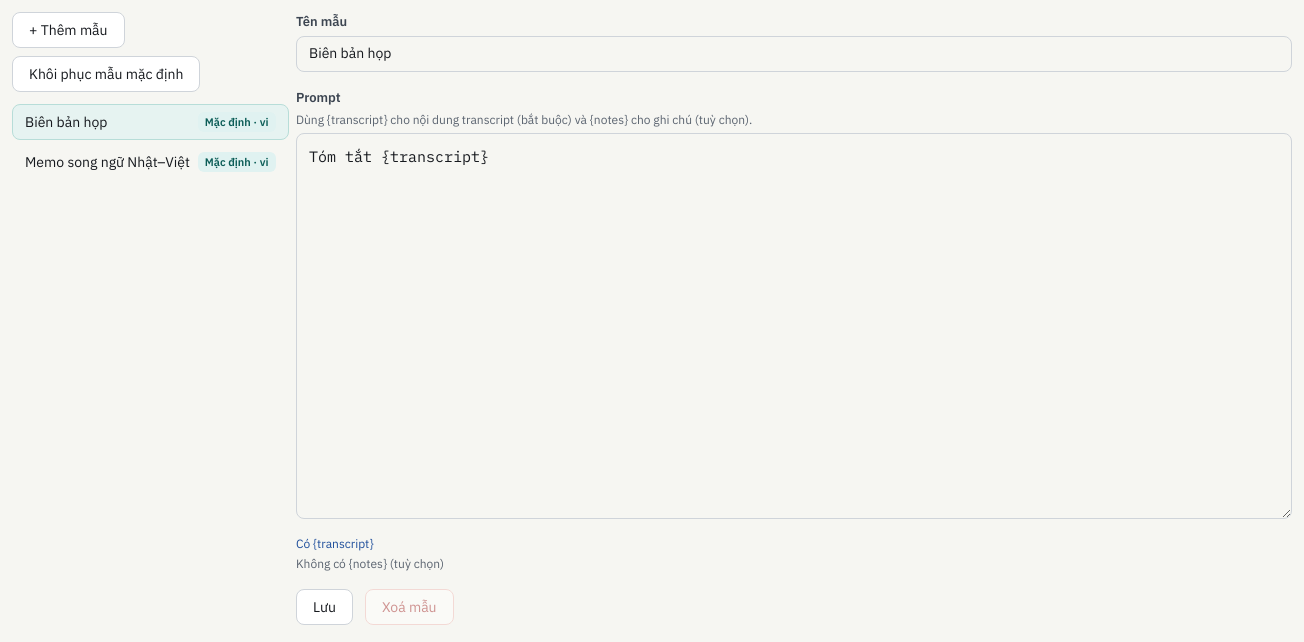
Test: SettingsMemo › switching the selected template while the editor has unsaved changes asks "Bỏ thay đổi?" first
Expected: the text "Biên bản họp" is shown, [25,112,107,132]
Replace the text in the field labelled "Tên mẫu" with "Đang gõ dở" at (794, 54), box [296,36,1292,72]
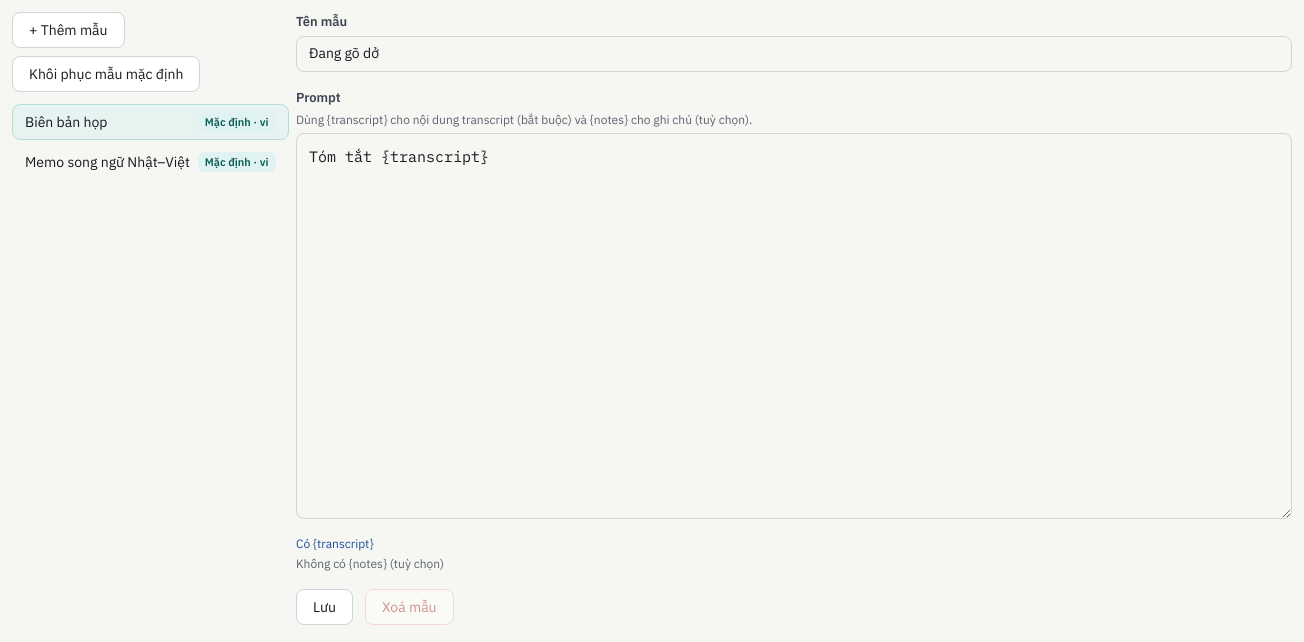
Click the button "Memo song ngữ Nhật–Việt Mặc định · vi" at (150, 162), box [12,144,289,180]
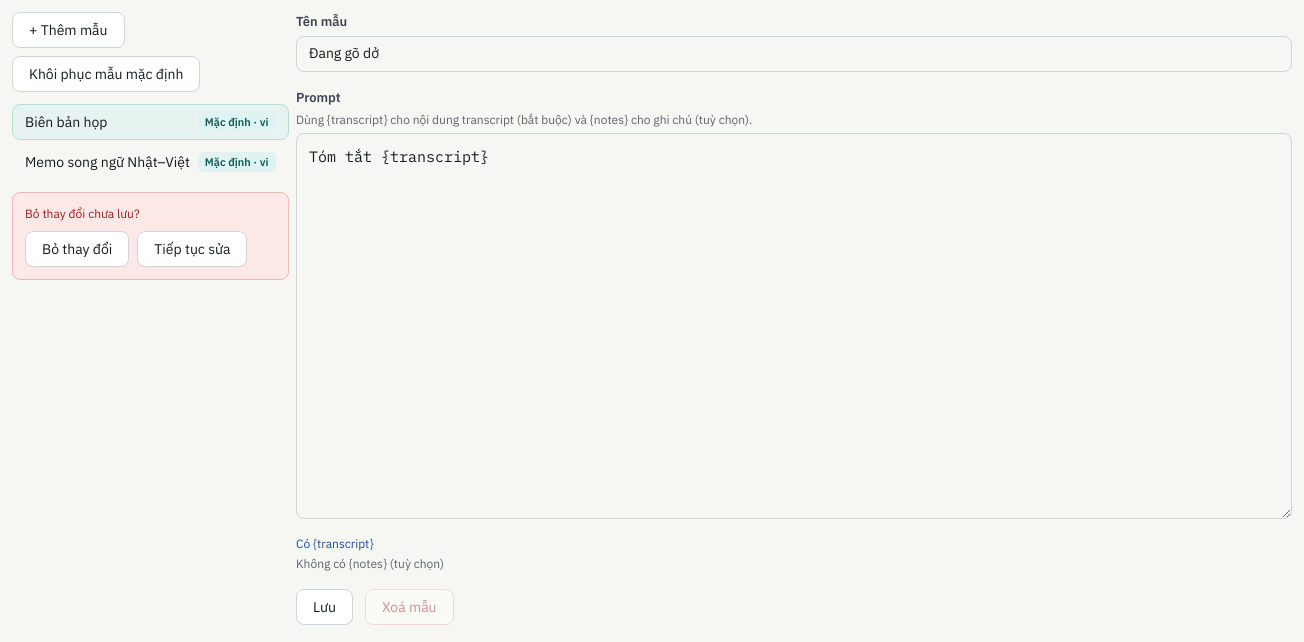
Expected: the text "Bỏ thay đổi chưa lưu?" is shown, [25,206,140,221]
Click the button "Bỏ thay đổi" at (77, 249), box [25,231,129,267]
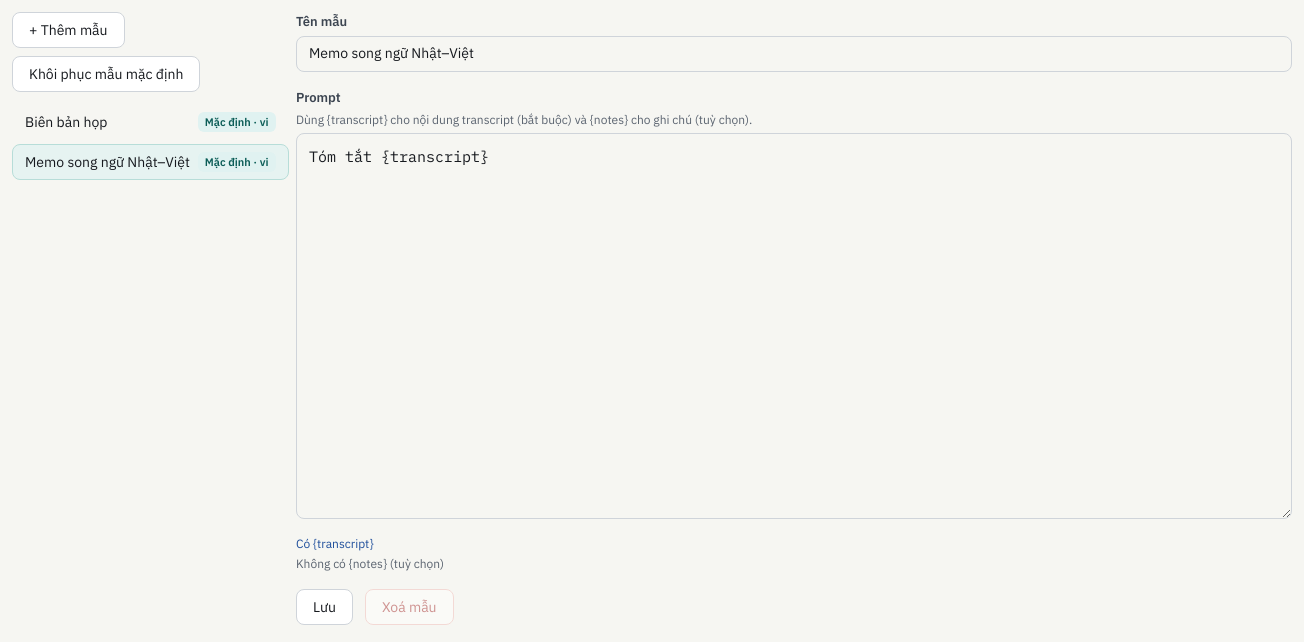
Expected: the field labelled "Tên mẫu" holds "Memo song ngữ Nhật–Việt", [296,36,1292,72]
